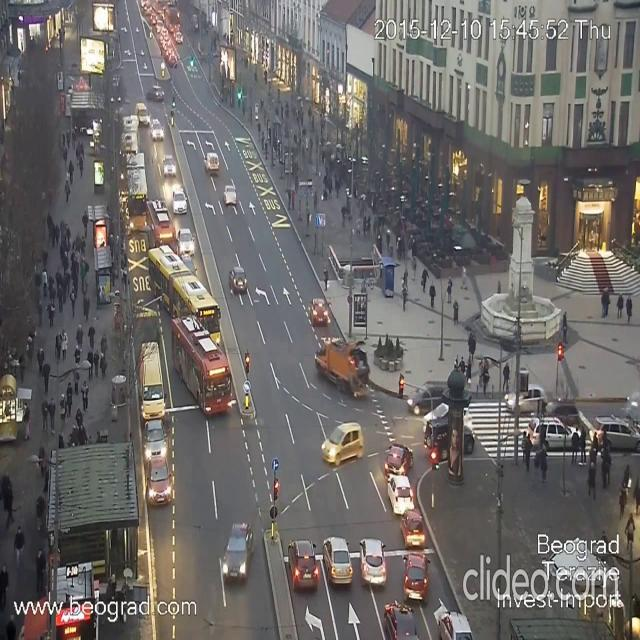bus: (147, 247, 223, 339), (171, 311, 227, 416), (129, 152, 153, 237), (151, 198, 178, 245), (120, 108, 138, 151)
car: (590, 412, 640, 458), (530, 415, 584, 454), (319, 418, 363, 464), (142, 343, 164, 434), (222, 522, 254, 582), (427, 421, 473, 462), (288, 539, 318, 591), (405, 380, 455, 410), (403, 550, 429, 604), (423, 396, 463, 431), (324, 532, 350, 585), (440, 606, 480, 640), (360, 536, 386, 588), (539, 400, 578, 432), (389, 599, 419, 640), (505, 389, 545, 415), (385, 476, 413, 513), (149, 460, 171, 500), (142, 423, 165, 461), (402, 510, 426, 546), (384, 444, 409, 472), (228, 267, 248, 294), (309, 298, 329, 324), (173, 184, 185, 219), (178, 226, 194, 252), (133, 98, 147, 127), (162, 154, 178, 178), (223, 188, 239, 208), (205, 157, 222, 175), (151, 122, 161, 141), (147, 85, 161, 98), (168, 56, 176, 70), (177, 34, 183, 42)
truck: (315, 332, 371, 396)
